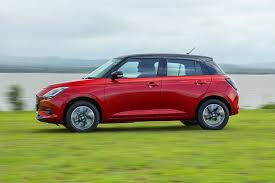Swift: (36, 51, 242, 129)
